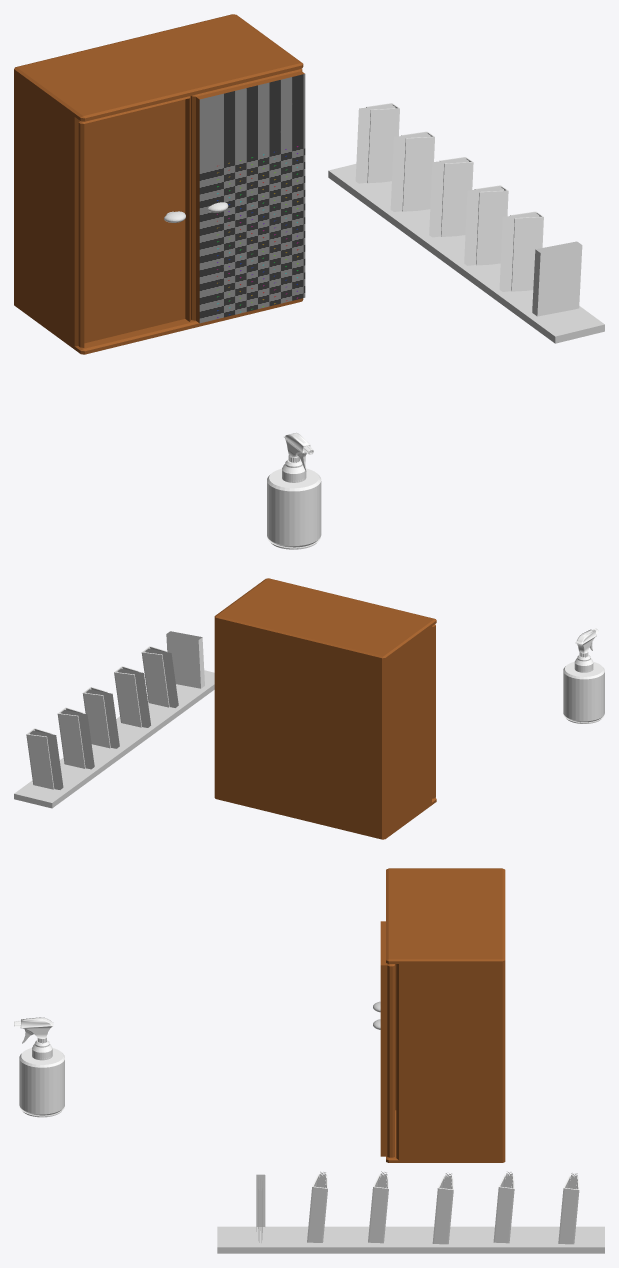
File: objetosAtencionCliente.glb
The picture shows the model from 3 angles, top to bottom: view 1: azimuth 30°, elevation 25°; view 2: azimuth 150°, elevation 25°; view 3: azimuth 270°, elevation 25°; orthographic projection. The views are drawn at different scales.
Parts seen in each view (by area): view 1: mueble, Plane, alcohol en gel, Plane.019, Plane.005, Plane.001, Plane.003, Plane.004, Plane.002; view 2: mueble, Plane, alcohol en gel, Plane.019, Plane.004, Plane.002, Plane.005, Plane.003, Plane.001; view 3: mueble, Plane, alcohol en gel, Plane.001, Plane.005, Plane.004, Plane.003, Plane.002, Plane.019.
Boxes of the visible parts, x1,y1,x2,y2 form: mueble: [14, 14, 305, 354]; Plane: [328, 164, 604, 343]; alcohol en gel: [267, 432, 321, 549]; Plane.019: [532, 241, 582, 316]; Plane.005: [390, 131, 434, 211]; Plane.001: [429, 157, 473, 237]; Plane.003: [464, 185, 508, 265]; Plane.004: [355, 103, 399, 183]; Plane.002: [499, 211, 543, 291]; mueble: [214, 578, 436, 839]; Plane: [14, 670, 214, 808]; alcohol en gel: [563, 628, 604, 723]; Plane.019: [166, 631, 204, 688]; Plane.004: [26, 728, 63, 789]; Plane.002: [141, 646, 178, 707]; Plane.005: [57, 707, 94, 769]; Plane.003: [114, 666, 150, 727]; Plane.001: [82, 687, 119, 748]; mueble: [373, 868, 505, 1162]; Plane: [217, 1226, 604, 1253]; alcohol en gel: [14, 1017, 64, 1117]; Plane.001: [432, 1173, 453, 1244]; Plane.005: [493, 1171, 514, 1243]; Plane.004: [558, 1173, 579, 1244]; Plane.003: [368, 1171, 388, 1243]; Plane.002: [307, 1171, 327, 1242]; Plane.019: [256, 1174, 265, 1242].
Bounding box in the file's own units: 24.4 × 14.75 × 33.41.
9 materials, 1 textured.
